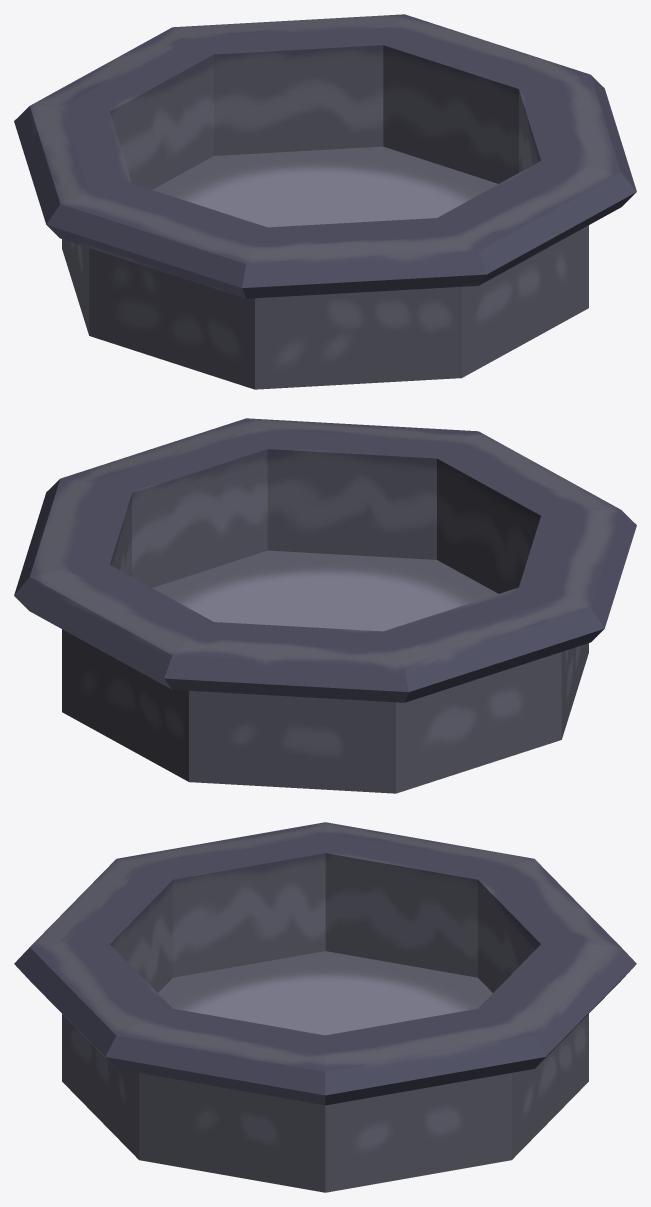
Rendered from fountain.fbx.
3 views of the same model, one above another, from view 1: azimuth 30°, elevation 25°; view 2: azimuth 150°, elevation 25°; view 3: azimuth 270°, elevation 25° (orthographic). The views are drawn at different scales.
Parts seen in each view (by area): view 1: fountain_geo; view 2: fountain_geo; view 3: fountain_geo.
Boxes of the visible parts, left/top/right/bottom form: fountain_geo: left=14, top=14, right=636, bottom=389; fountain_geo: left=14, top=418, right=636, bottom=793; fountain_geo: left=14, top=822, right=636, bottom=1192.
Size of the model in its own units: 28.81 by 7 by 28.81.
